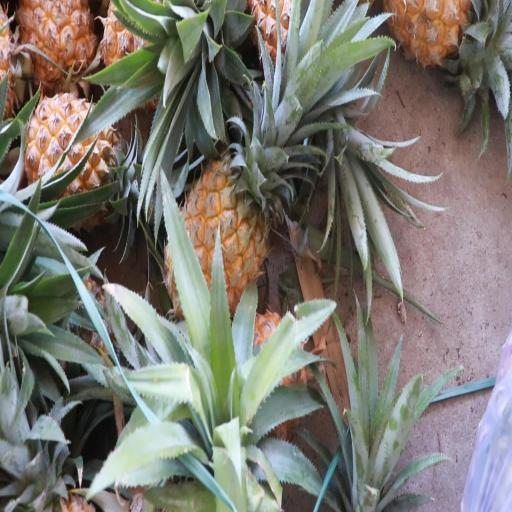Pineapple - v8 v1: (158, 145, 273, 338), (22, 84, 129, 236), (14, 0, 101, 103), (376, 0, 485, 78)
